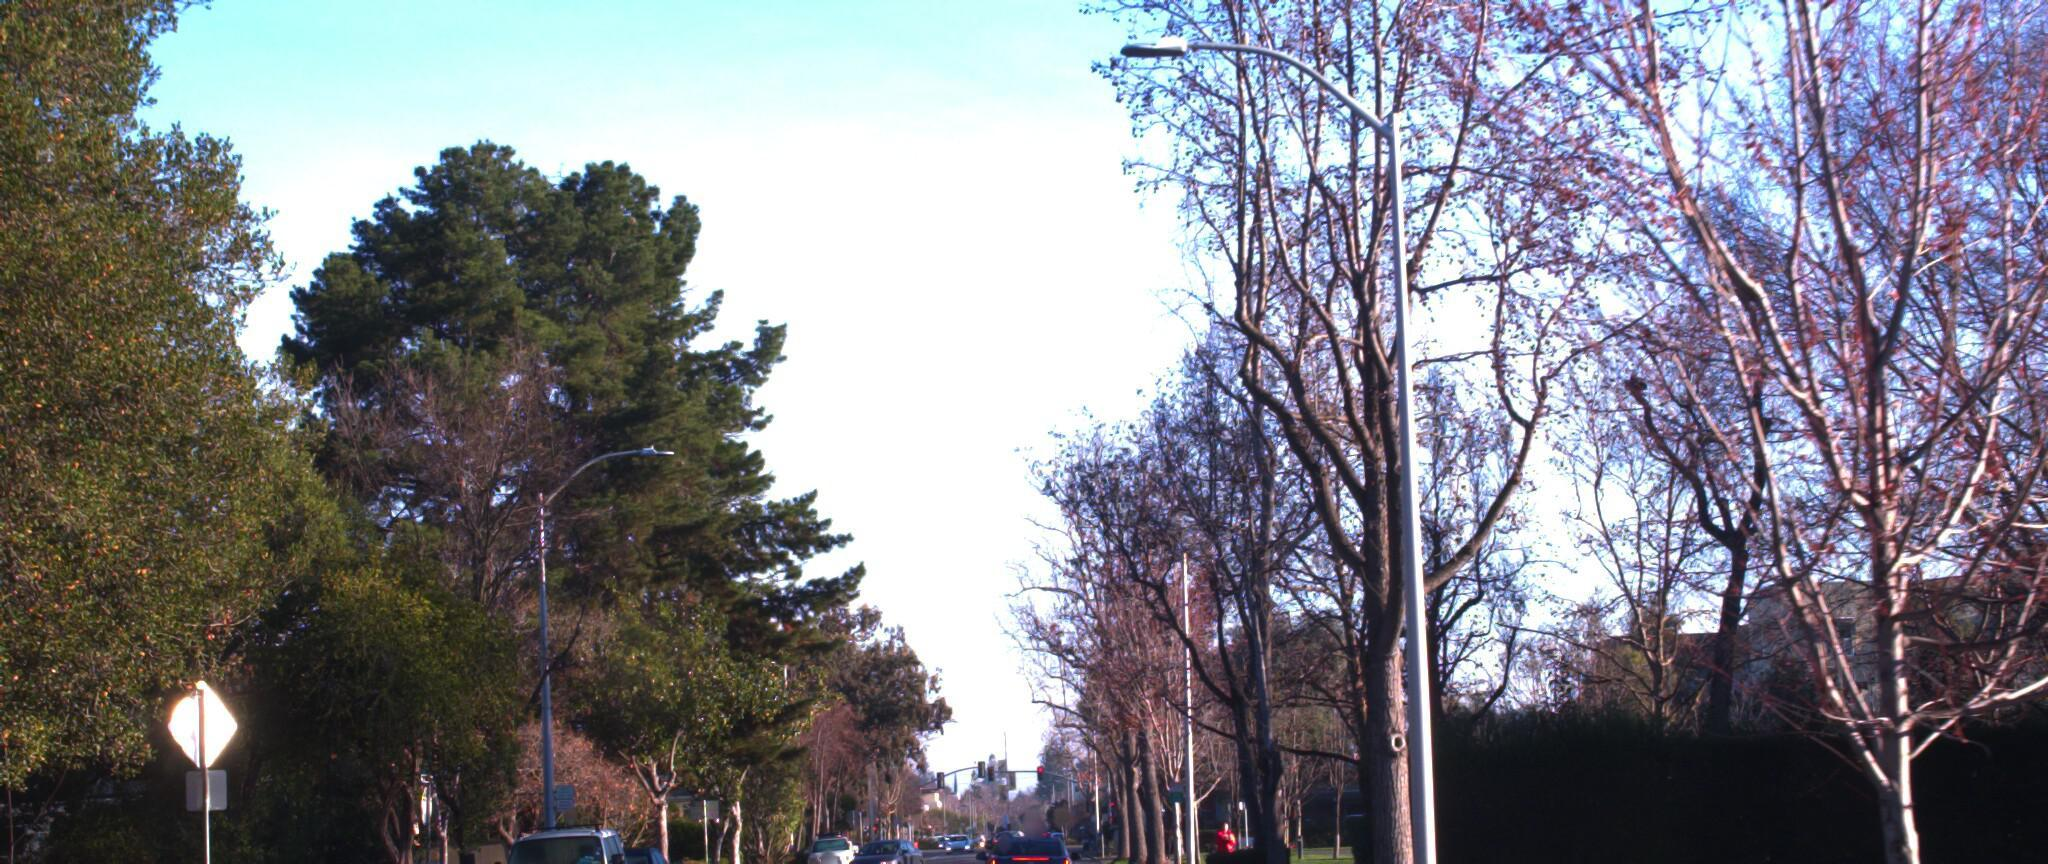car: (481, 801, 643, 864), (247, 838, 508, 864), (973, 810, 1085, 864), (568, 824, 683, 864)
